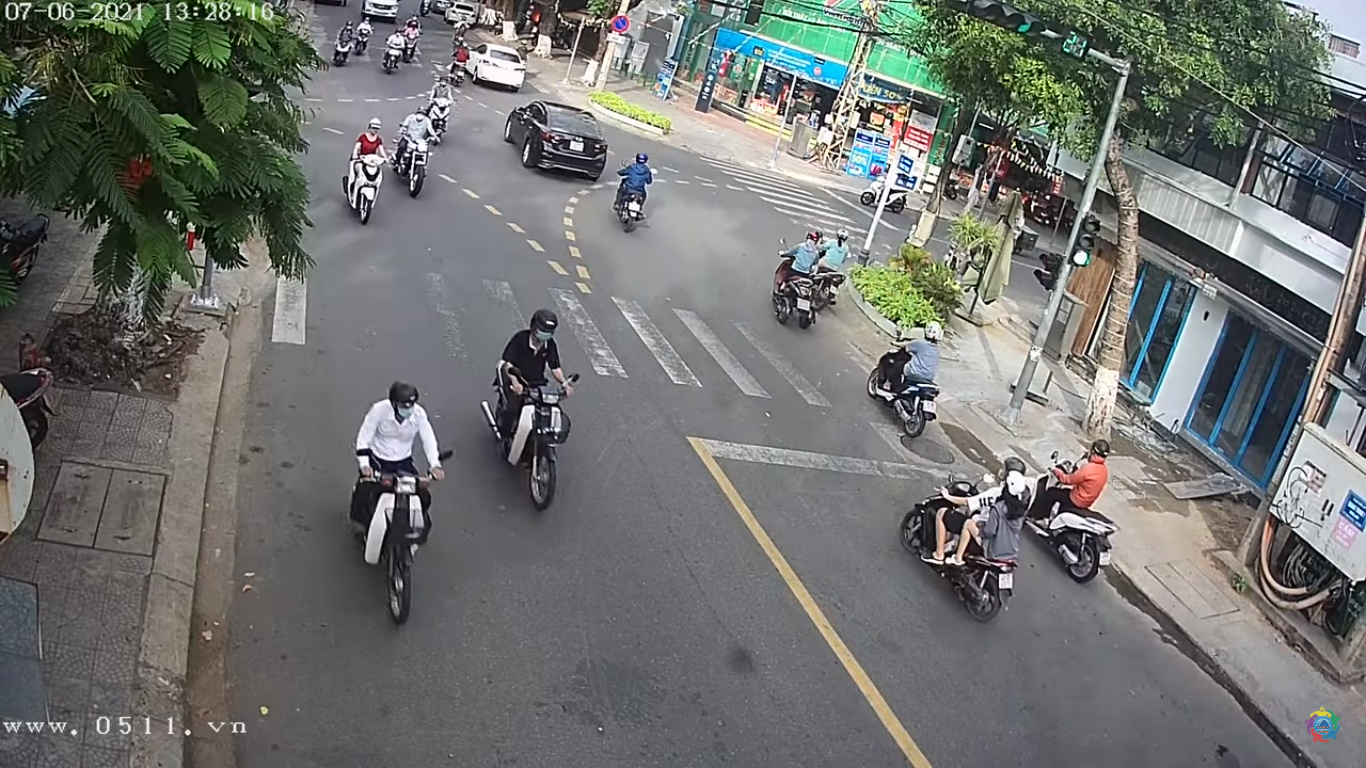motorbike: (351, 382, 459, 622), (489, 309, 581, 508)
